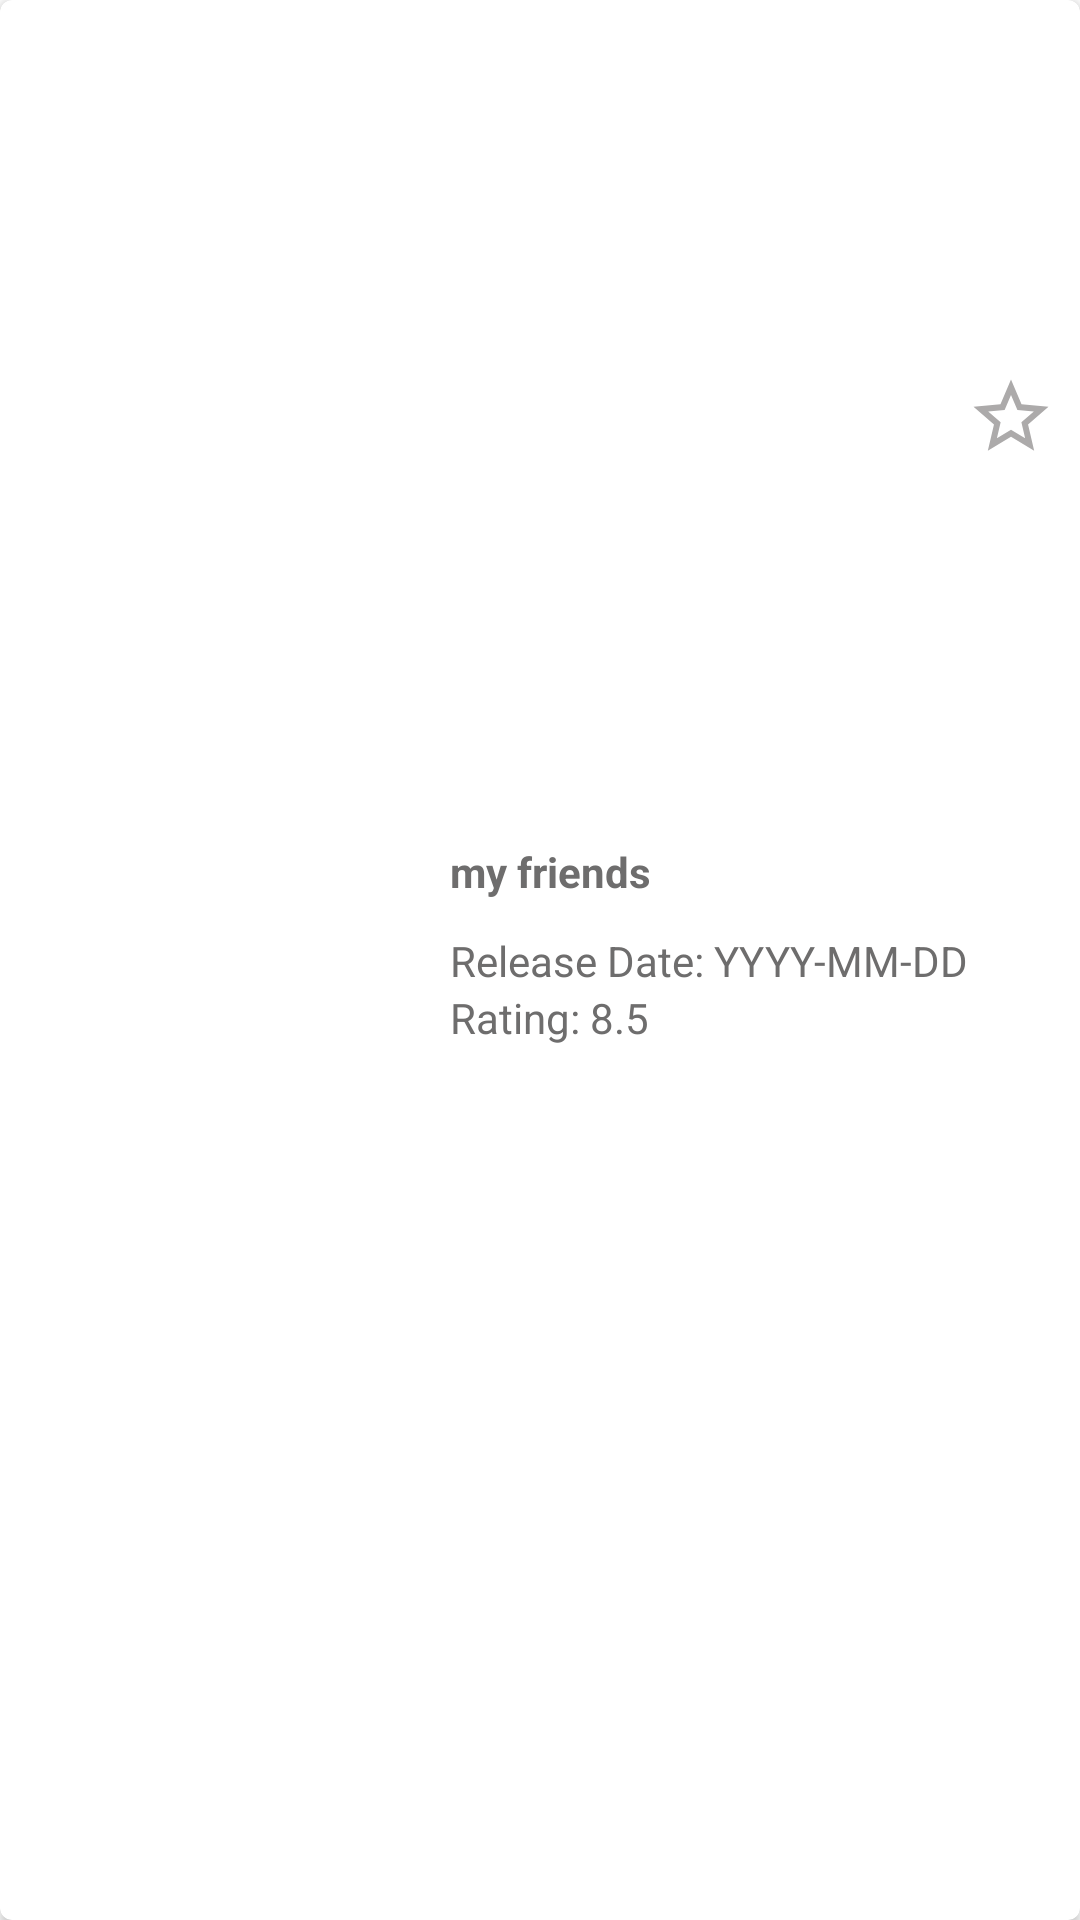

Icons on this 1080*1920 Android screen, each with its box as box=[x1, y1, x2, y2]:
Add to favorite: box=[974, 380, 1048, 451]
